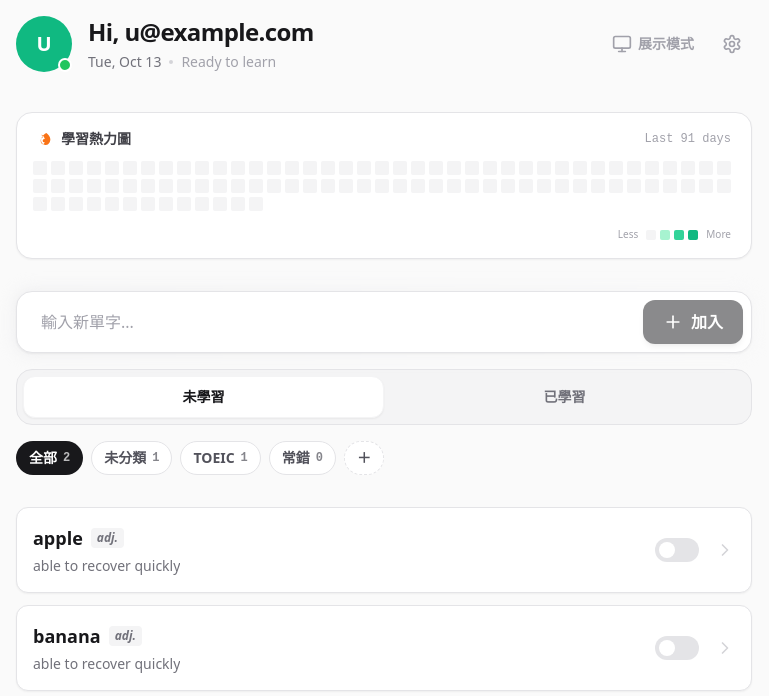
Scenario: 選了資料夾後,清單只剩那個資料夾的字
The image size is (769, 696).
Expected: the heading "banana" is shown, [33,622,101,650]
Click the button "TOEIC 1" at (221, 458), box [180,441,261,475]
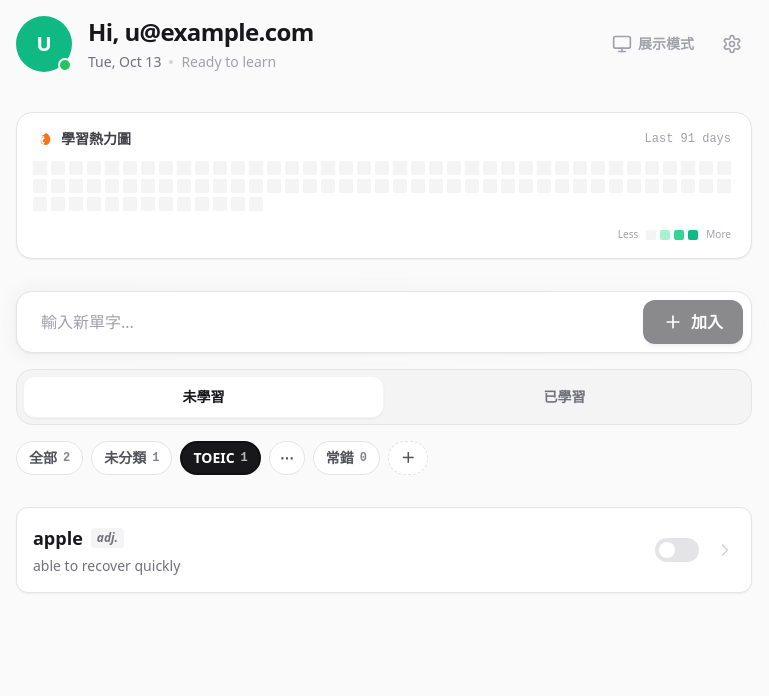
Expected: the heading "apple" is shown, [33,524,83,552]
Now the heading "banana" is gone
